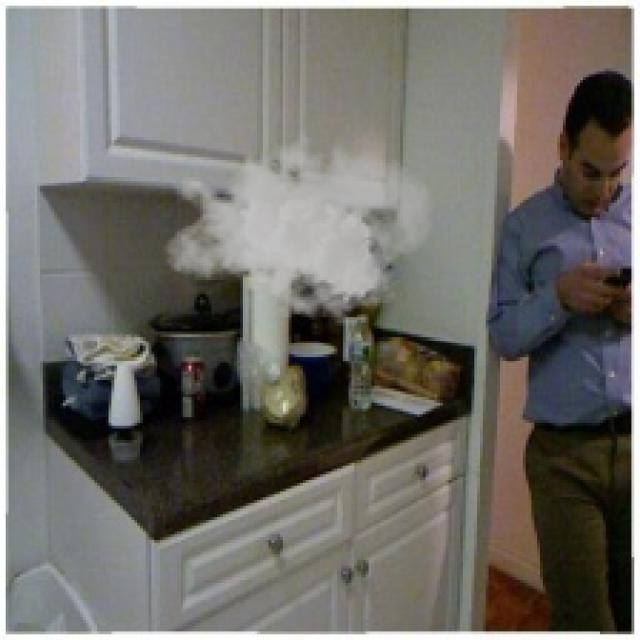smoke: (163, 120, 434, 326)
